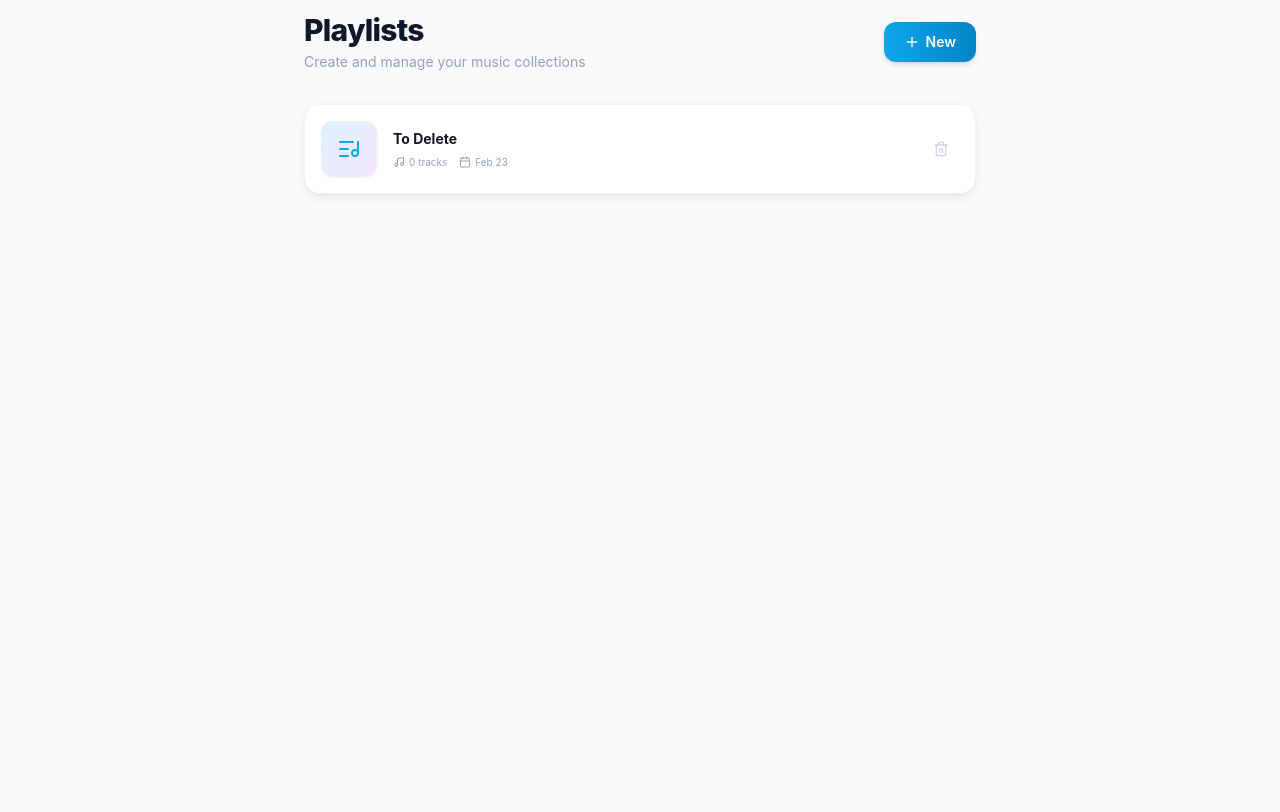
Scenario: Playlists Page › deletes a playlist optimistically
Expected: the heading "To Delete" is shown, [393, 130, 457, 147]
What coordinates should you click on to do the following:
click the button titled "Delete playlist"
I would click on:
 (941, 149)
Its box is [923, 131, 959, 167].
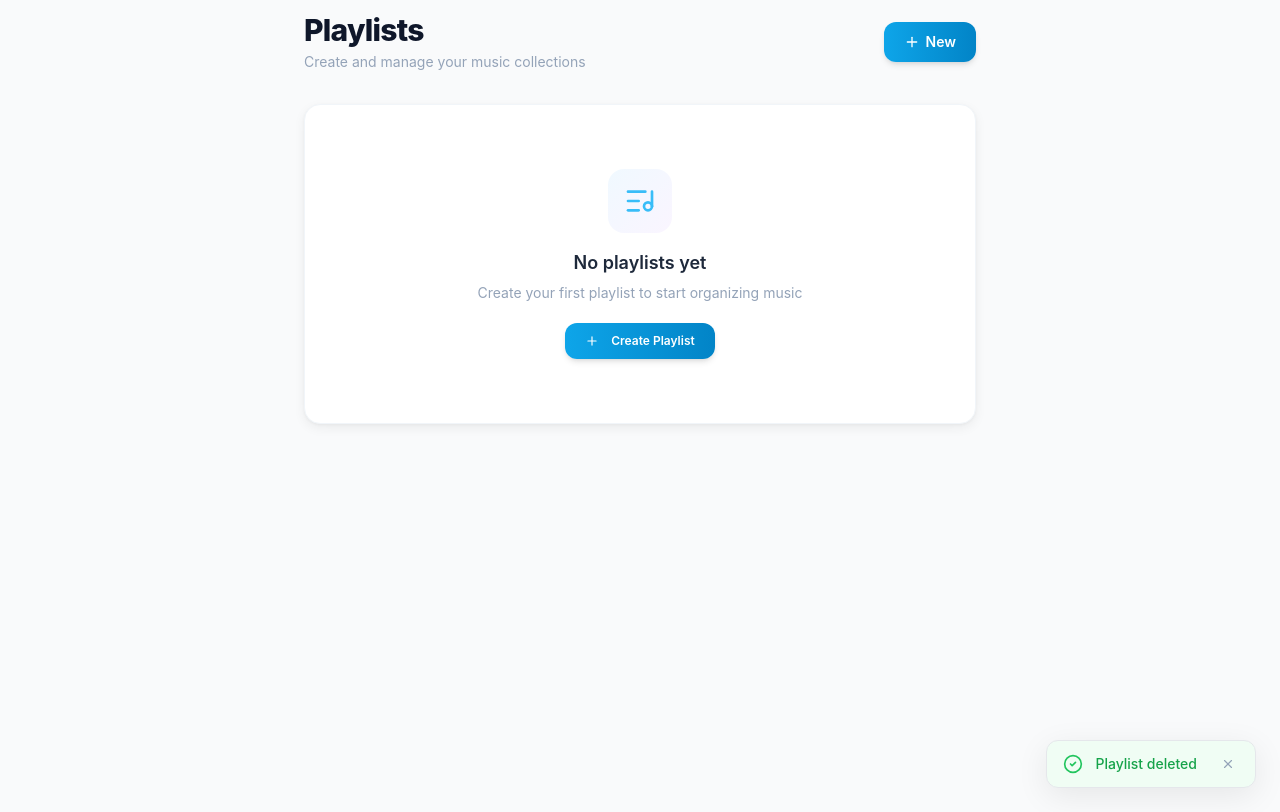
Expected: the link "To Delete" is gone
